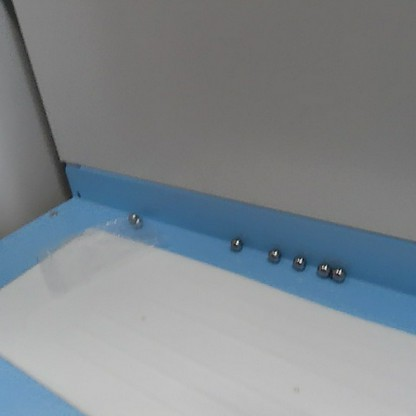ironball: (330, 261, 345, 285), (265, 246, 284, 264), (226, 233, 243, 253), (292, 253, 309, 272), (315, 259, 330, 280), (125, 208, 140, 221), (133, 217, 146, 228)
